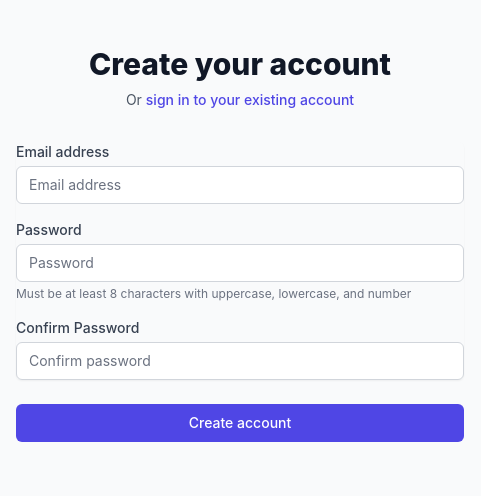
Scenario: Signup Component › should show error for password too short
The image size is (481, 496).
Step 1. Type "Short1" into the password field labelled "Password" → {"x": 240, "y": 263}, box [16,244,464,282]
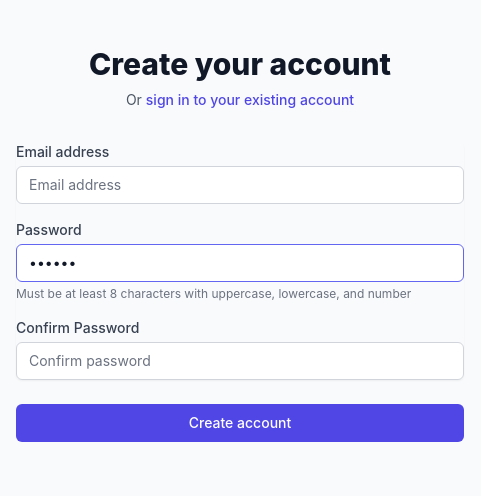
Step 2. Type "Short1" into the password field labelled "Confirm Password" → {"x": 240, "y": 361}, box [16,342,464,380]
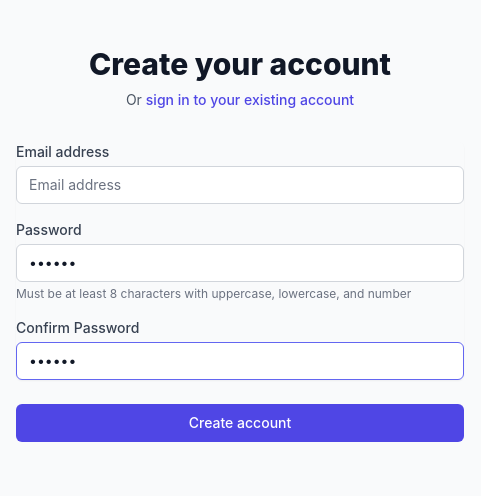
Step 3. Submit the form named "create account", box [16,142,464,442]
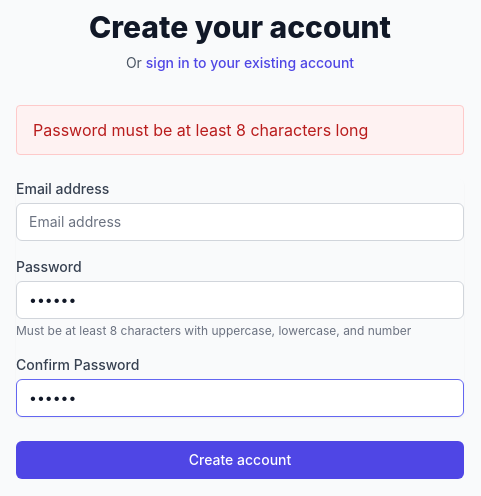
Check: the message reads "Password must be at least 8 characters long", box [33,120,368,140]
